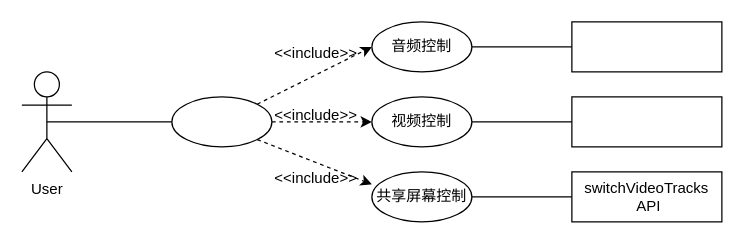
This 744x244 diagram has some shape labels left out. Each missing label, with the centre of its shape:
"enableAudioTrack API" goes at pixel 646 46.
"enableVideoTrack API" goes at pixel 646 121.
"媒体流控制" goes at pixel 221 121.
